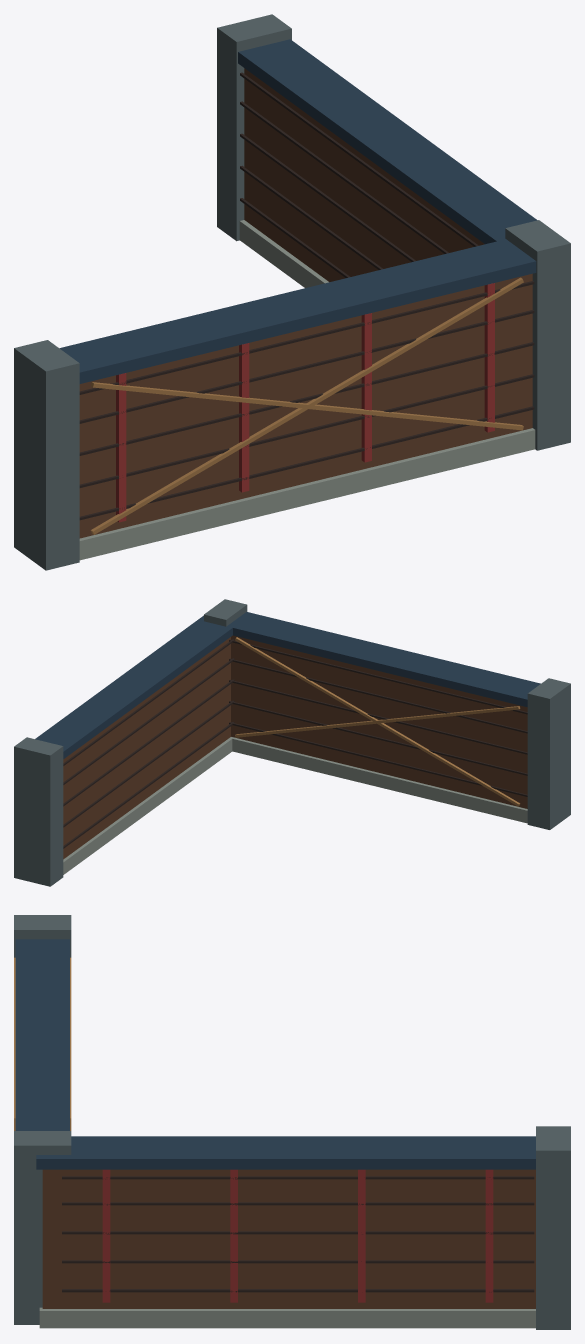
Rendered from PirateCove_BoundaryCorner_Standard.glb.
3 renders of one model, top to bottom at view 1: azimuth 30°, elevation 25°; view 2: azimuth 150°, elevation 25°; view 3: azimuth 270°, elevation 25°, orthographic. The views are drawn at different scales.
Parts seen in each view (by area): view 1: PirateCove_BoundaryCorner_Standard; view 2: PirateCove_BoundaryCorner_Standard; view 3: PirateCove_BoundaryCorner_Standard.
Part boxes in pixels (x1,y1,x2,y2): PirateCove_BoundaryCorner_Standard: (14,14,570,570); PirateCove_BoundaryCorner_Standard: (14,599,570,886); PirateCove_BoundaryCorner_Standard: (14,915,570,1329).
Bounding box in the file's own units: 8.73 × 3.1 × 8.73.
